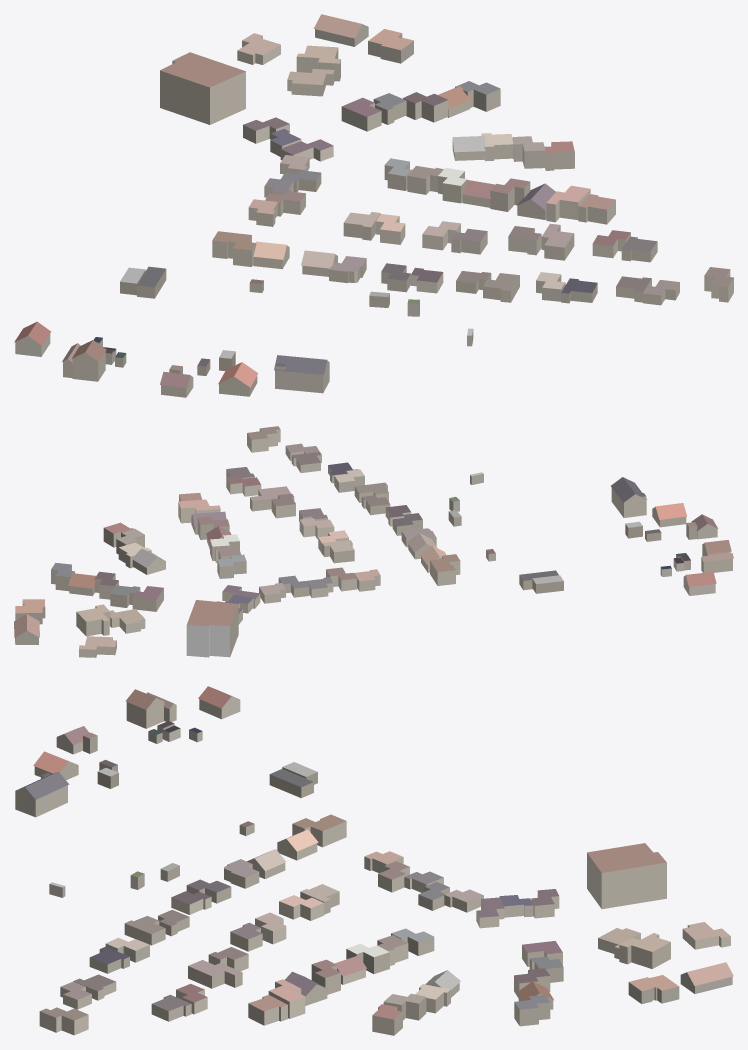
The picture shows the model from 3 angles, top to bottom: view 1: azimuth 30°, elevation 25°; view 2: azimuth 150°, elevation 25°; view 3: azimuth 270°, elevation 25°; orthographic projection. The views are drawn at different scales.
Visible parts, largest first — view 1: tuile; view 2: tuile; view 3: tuile.
Boxes of the visible parts, x1=… form: tuile: x1=14, y1=14, x2=733, y2=397; tuile: x1=14, y1=426, x2=733, y2=657; tuile: x1=15, y1=686, x2=733, y2=1035.
Bounding box in the file's own units: 254 × 24.29 × 252.
